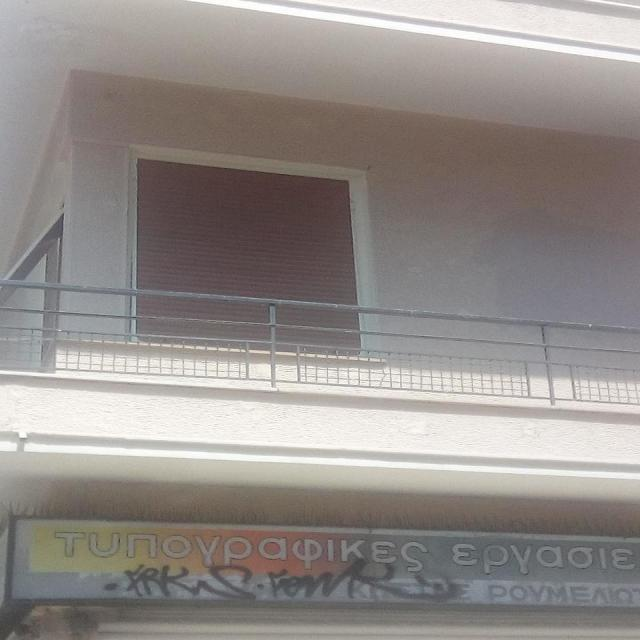nonspitting: (104, 560, 457, 602)
